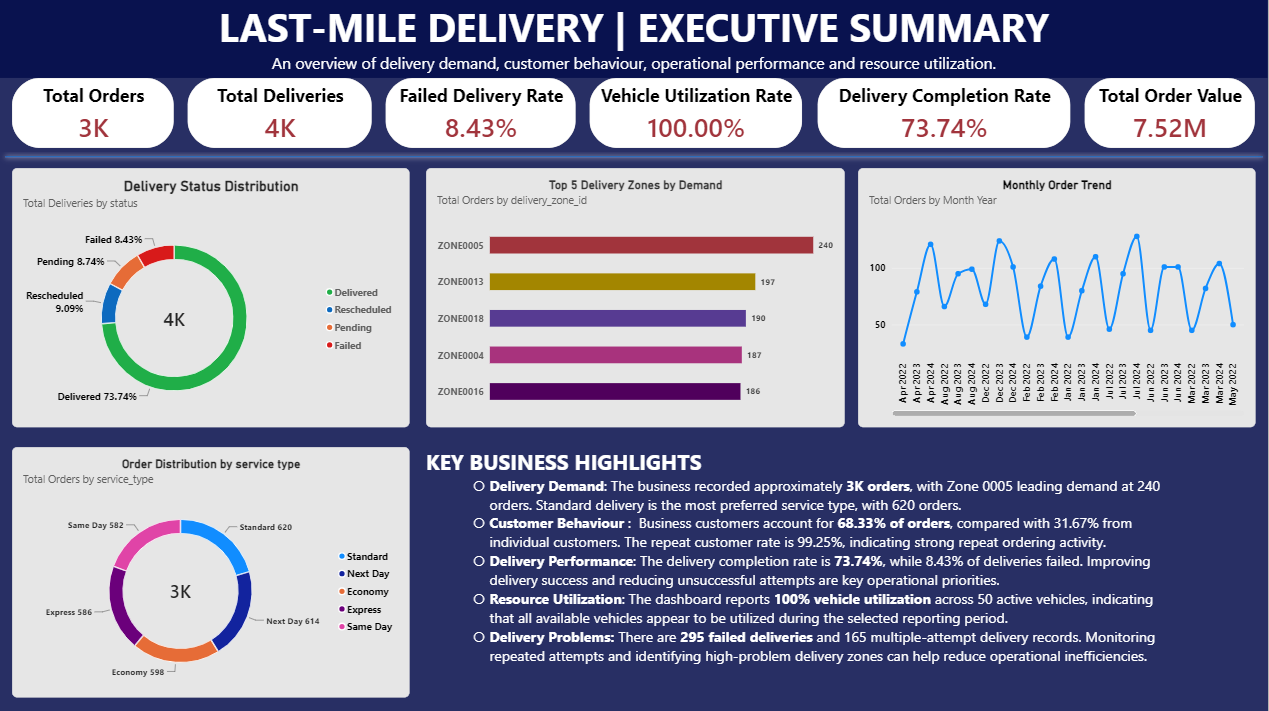

This screenshot's page, from the dashboard's own definition file:
{"tool":"powerbi","page":{"name":"Page 7","canvas":[1920,1080],"ordinal":6},"visuals":[{"type":"textbox","box":[0,0,1919.3,118.1],"z":0},{"type":"cardVisual","fields":{"Data":["Delivery Demand.Total Orders"]},"box":[18.2,118.1,245.3,106.8],"z":1000},{"type":"cardVisual","fields":{"Data":["Delivery Demand.Total Order Value"]},"box":[1642.2,118.1,258.9,106.8],"z":2000},{"type":"cardVisual","fields":{"Data":["Delivery Performance.Total Deliveries"]},"box":[283.9,118.1,279.4,106.8],"z":3000},{"type":"cardVisual","fields":{"Data":["Delivery Performance.Delivery Completion Rate"]},"box":[1237.9,118.1,383.9,106.8],"z":4000},{"type":"cardVisual","fields":{"Data":["Delivery Performance.Failed Delivery Rate"]},"box":[583.7,118.1,288.5,106.8],"z":5000},{"type":"cardVisual","fields":{"Data":["Driver and Vehicle Performance.Vehicle Utilization Rate"]},"box":[892.6,118.1,322.5,106.8],"z":6000},{"type":"donutChart","title":"Order Distribution by service type","fields":{"Category":["orders.service_type"],"Y":["Delivery Demand.Total Orders"]},"box":[18.2,676.8,601.9,379.3],"z":7000},{"type":"donutChart","title":"Delivery Status Distribution","fields":{"Category":["deliveries.status"],"Y":["Delivery Performance.Total Deliveries"]},"box":[18.2,254.4,601.9,392.9],"z":8000},{"type":"clusteredBarChart","title":"Top 5 Delivery Zones by Demand","fields":{"Category":["orders.delivery_zone_id"],"Y":["Delivery Demand.Total Orders"]},"box":[645.1,254.4,633.7,392.9],"z":9000},{"type":"lineChart","title":"Monthly Order Trend","fields":{"Category":["date_table.Month Year"],"Y":["Delivery Demand.Total Orders"]},"box":[1299.2,254.4,601.9,392.9],"z":10000},{"type":"shape","box":[0,224.9,1920,25],"z":11000},{"type":"textbox","box":[645,677.5,1127.5,377.5],"z":12000}]}

Visuals, with their boxes in screenshot pixels (x1, y1, x2, y2), scaled from the page's 1920x1080 canvas onto the 1269x711 screenshot:
textbox: region(0, 0, 1268, 78)
cardVisual - Delivery Demand.Total Orders: region(12, 78, 174, 148)
cardVisual - Delivery Demand.Total Order Value: region(1085, 78, 1257, 148)
cardVisual - Delivery Performance.Total Deliveries: region(188, 78, 372, 148)
cardVisual - Delivery Performance.Delivery Completion Rate: region(818, 78, 1072, 148)
cardVisual - Delivery Performance.Failed Delivery Rate: region(386, 78, 576, 148)
cardVisual - Driver and Vehicle Performance.Vehicle Utilization Rate: region(590, 78, 803, 148)
"Order Distribution by service type" donutChart: region(12, 446, 410, 695)
"Delivery Status Distribution" donutChart: region(12, 167, 410, 426)
"Top 5 Delivery Zones by Demand" clusteredBarChart: region(426, 167, 845, 426)
"Monthly Order Trend" lineChart: region(859, 167, 1257, 426)
shape: region(0, 148, 1268, 165)
textbox: region(426, 446, 1172, 695)
